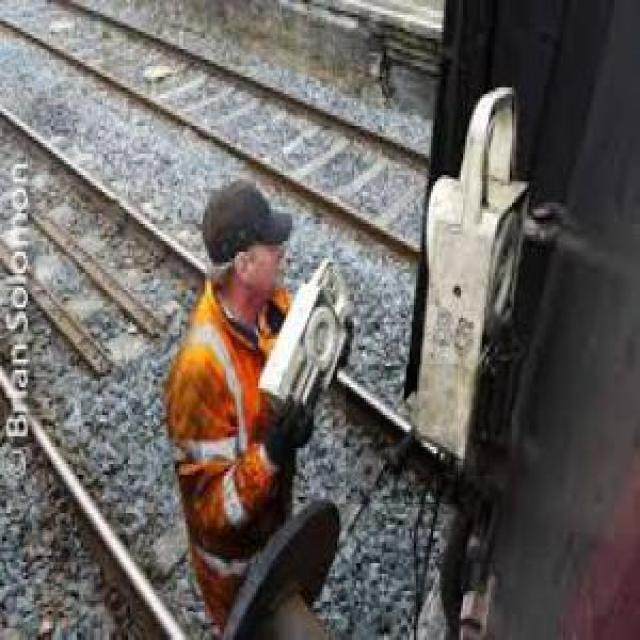rail: (1, 1, 435, 270), (1, 335, 194, 640), (1, 92, 212, 310), (348, 366, 459, 505)
